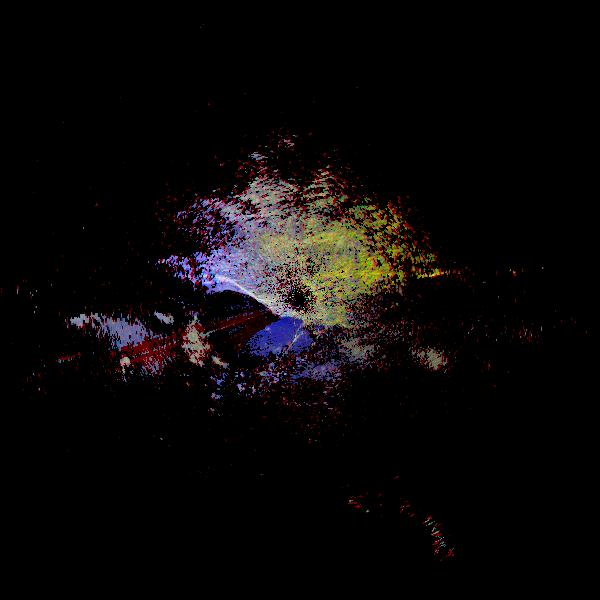roost: (126, 302, 216, 392)
